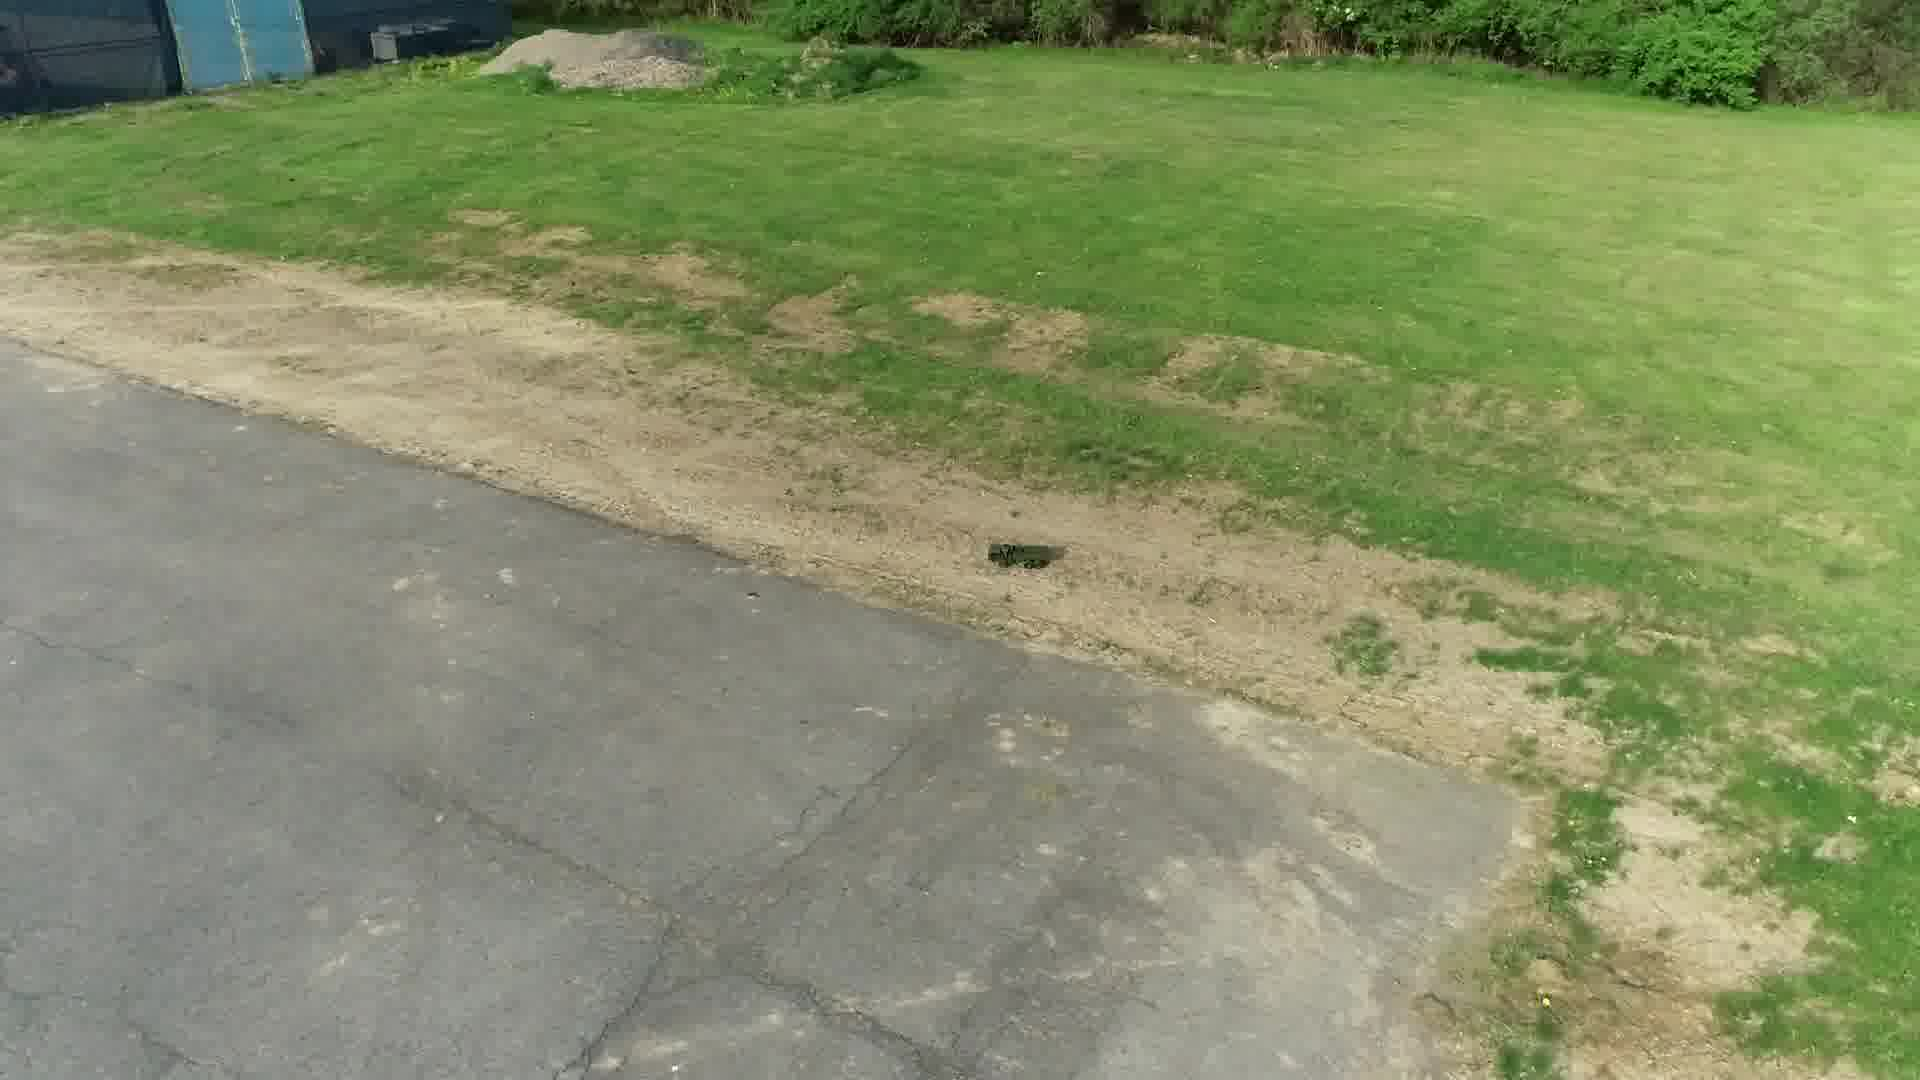transporter9: (985, 541, 1055, 572)
